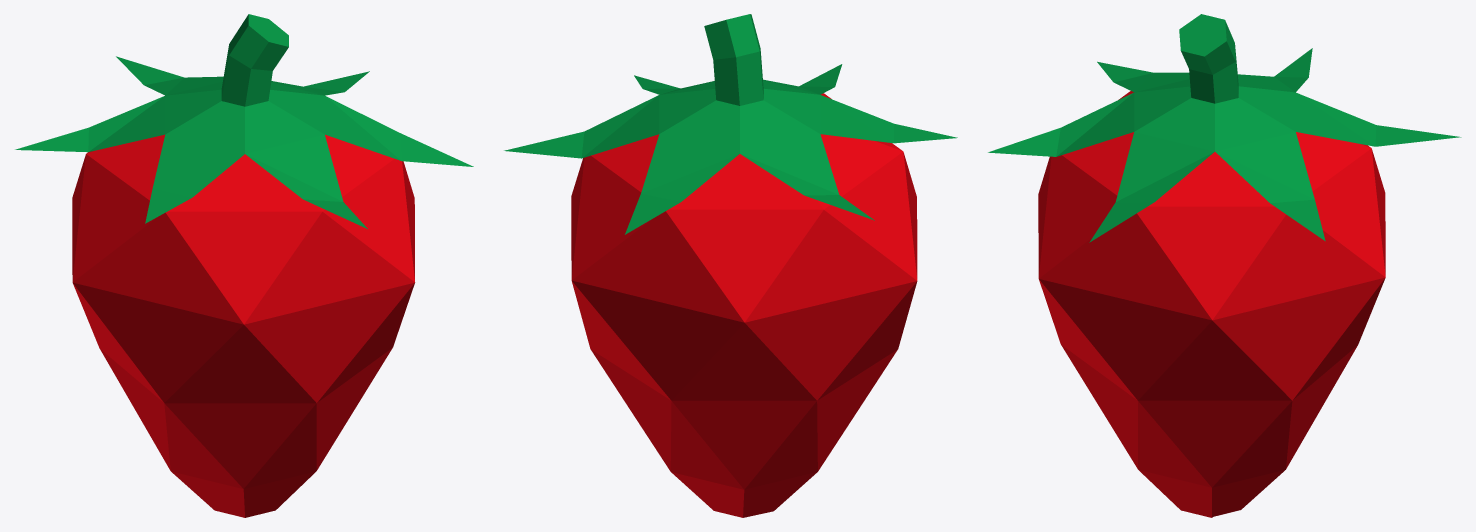
Rendered from strawberry.fbx.
3 renders of one model, left to right at view 1: azimuth 30°, elevation 25°; view 2: azimuth 150°, elevation 25°; view 3: azimuth 270°, elevation 25°, orthographic.
Visible parts, largest first — view 1: strawberry; view 2: strawberry; view 3: strawberry.
Boxes of the visible parts, bbox=[...] form: strawberry: bbox=[15, 14, 473, 517]; strawberry: bbox=[504, 14, 957, 517]; strawberry: bbox=[988, 14, 1461, 517].
Size of the model in its own units: 68.34 by 86.84 by 76.56.
